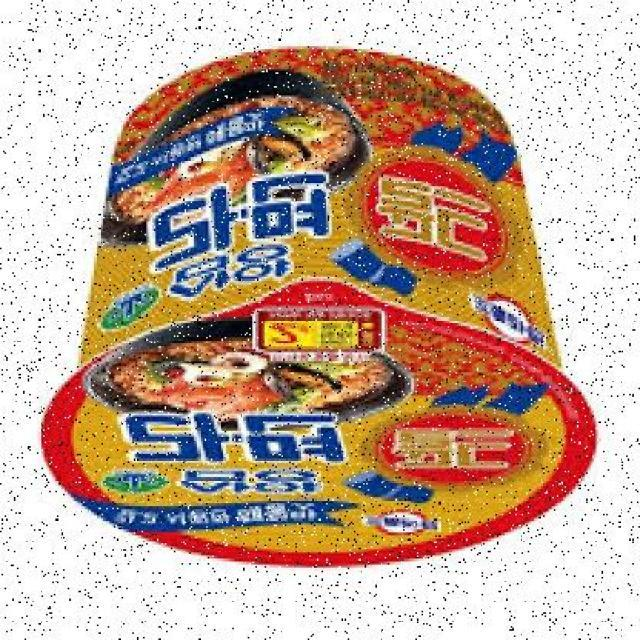Miscellaneous: (41, 46, 604, 565)
